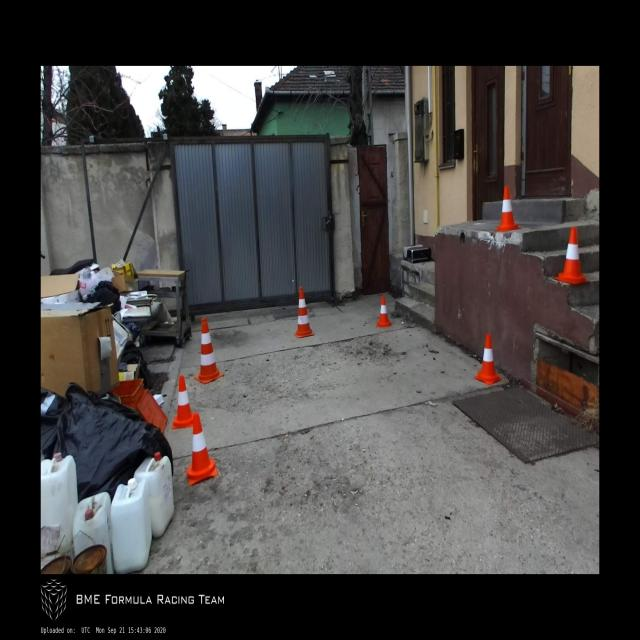large_orange_cone: (194, 318, 224, 384), (294, 288, 314, 338)
orange_cone: (186, 413, 218, 486), (553, 227, 590, 285), (474, 334, 502, 386), (495, 185, 521, 231), (172, 377, 194, 429), (376, 296, 392, 327)
